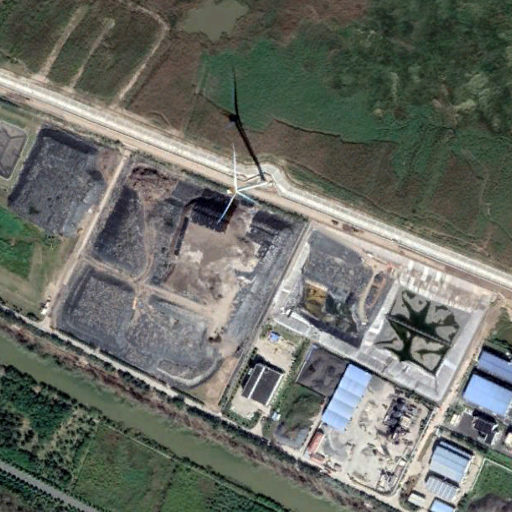lf: (49, 150, 307, 449), (266, 218, 493, 404), (10, 126, 120, 251)
